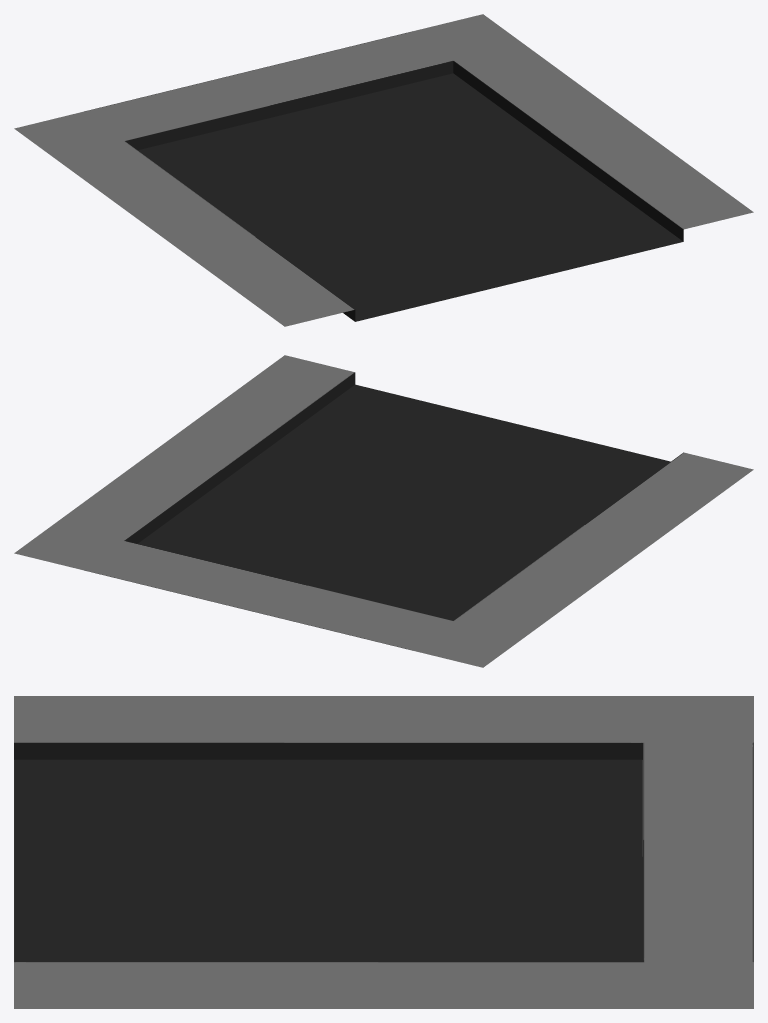
Rendered from Road-5.obj.
3 renders of one model, top to bottom at view 1: azimuth 30°, elevation 25°; view 2: azimuth 150°, elevation 25°; view 3: azimuth 270°, elevation 25°, orthographic. The views are drawn at different scales.
Visible parts, largest first — view 1: Plane.005; view 2: Plane.005; view 3: Plane.005.
Boxes of the visible parts, x1,y1,x2,y2 form: Plane.005: [14, 14, 753, 326]; Plane.005: [14, 355, 753, 667]; Plane.005: [14, 696, 753, 1008].
Bounding box in the file's own units: 20 × 0.5 × 20.
